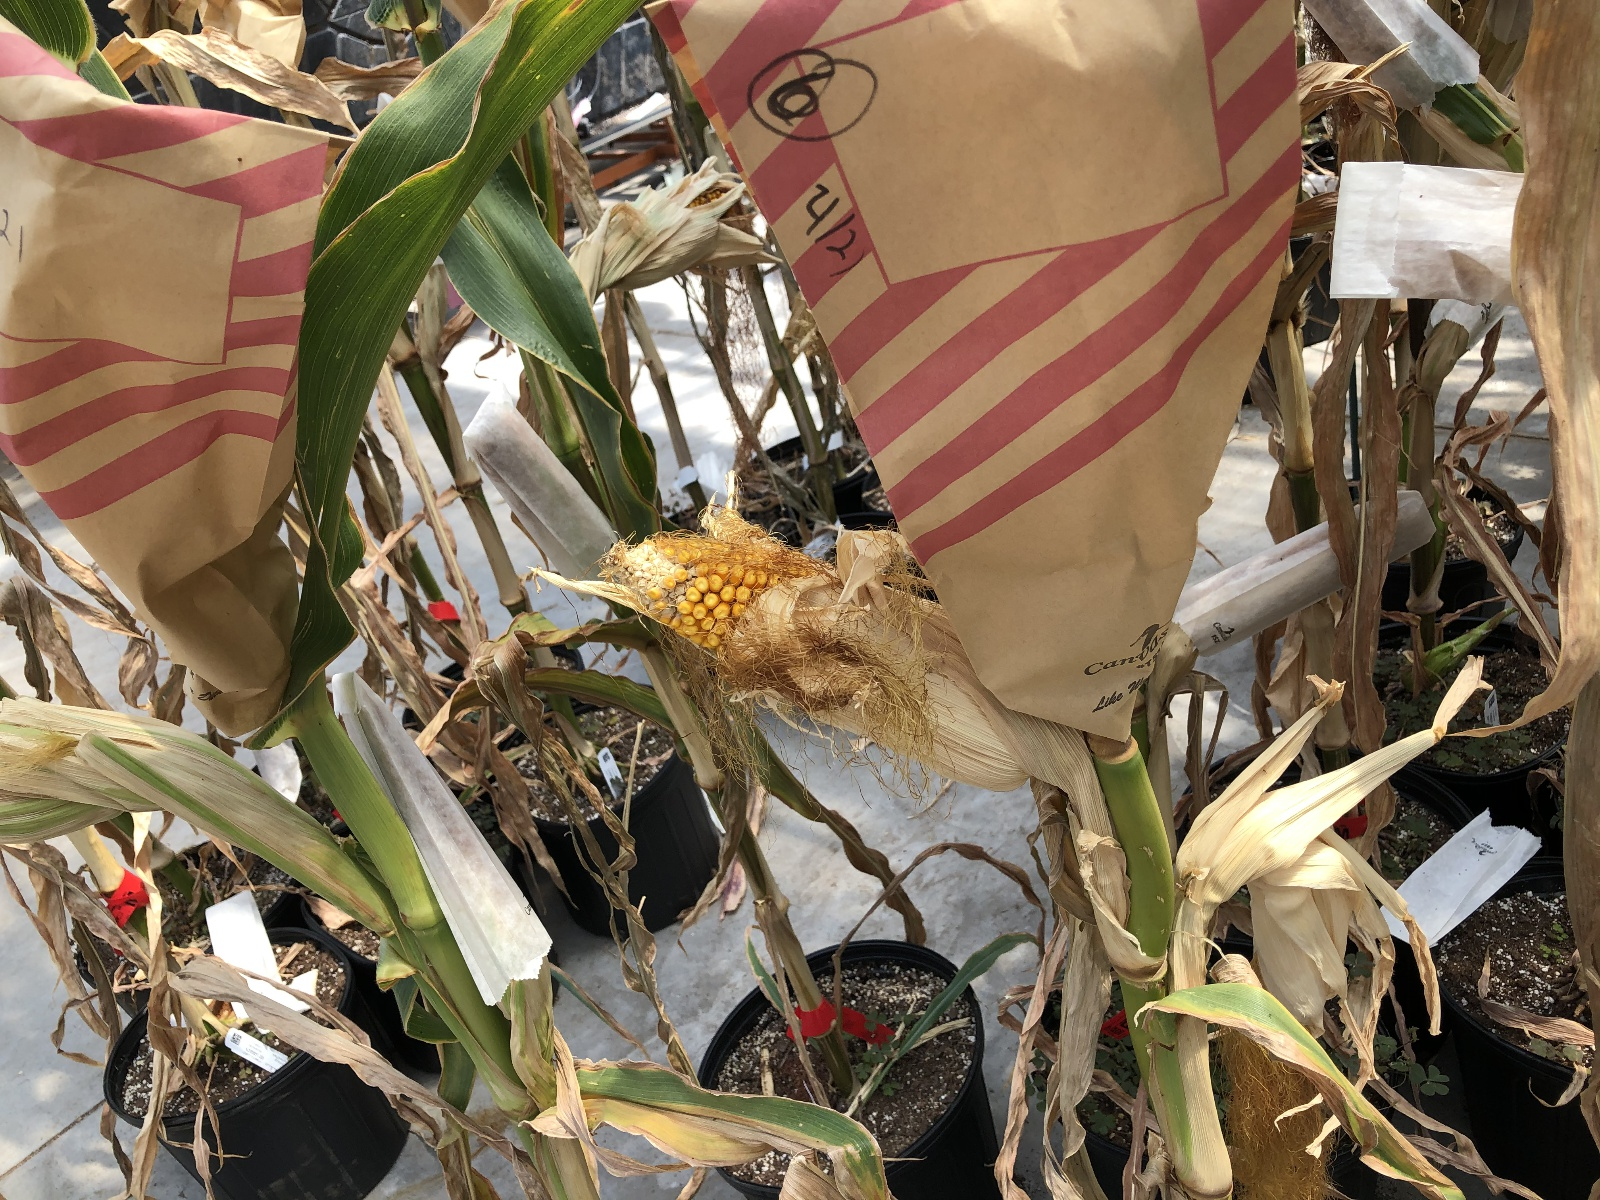ear: (585, 514, 1056, 792), (580, 155, 776, 289)
